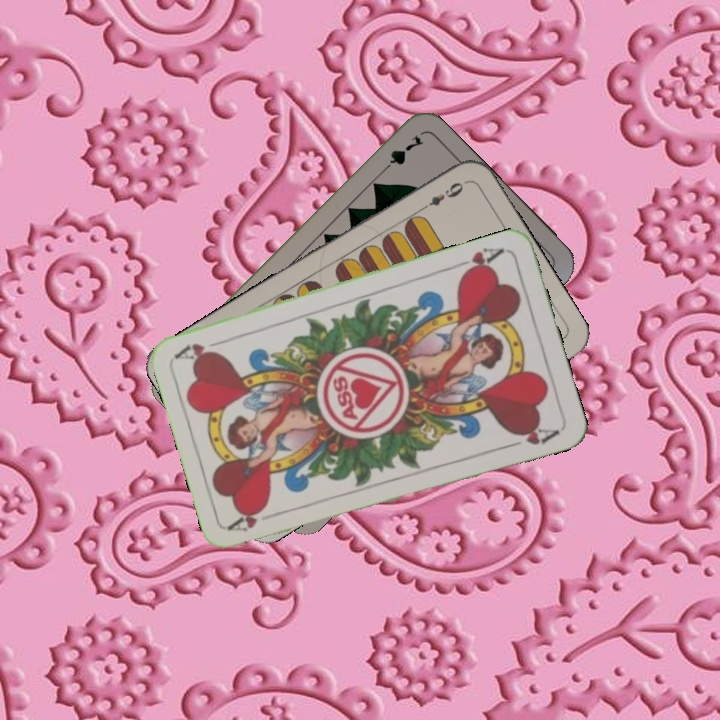E9: (416, 178, 467, 214)
G7: (376, 130, 426, 177)
HA: (450, 243, 507, 279), (226, 504, 284, 534)
